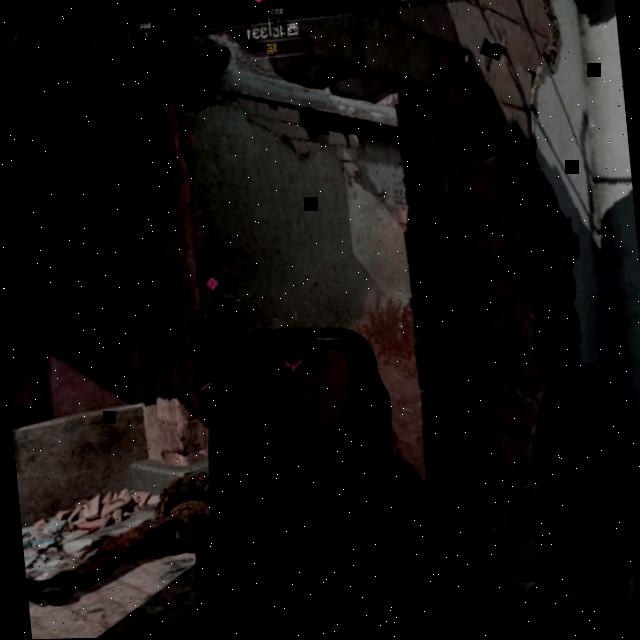MW2_body: (185, 266, 323, 440)
